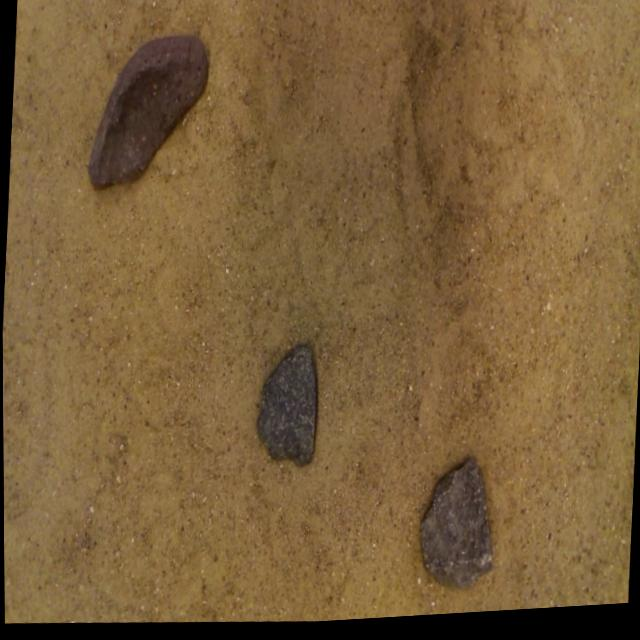rock: (88, 38, 207, 189), (419, 465, 491, 593), (256, 350, 315, 469)
